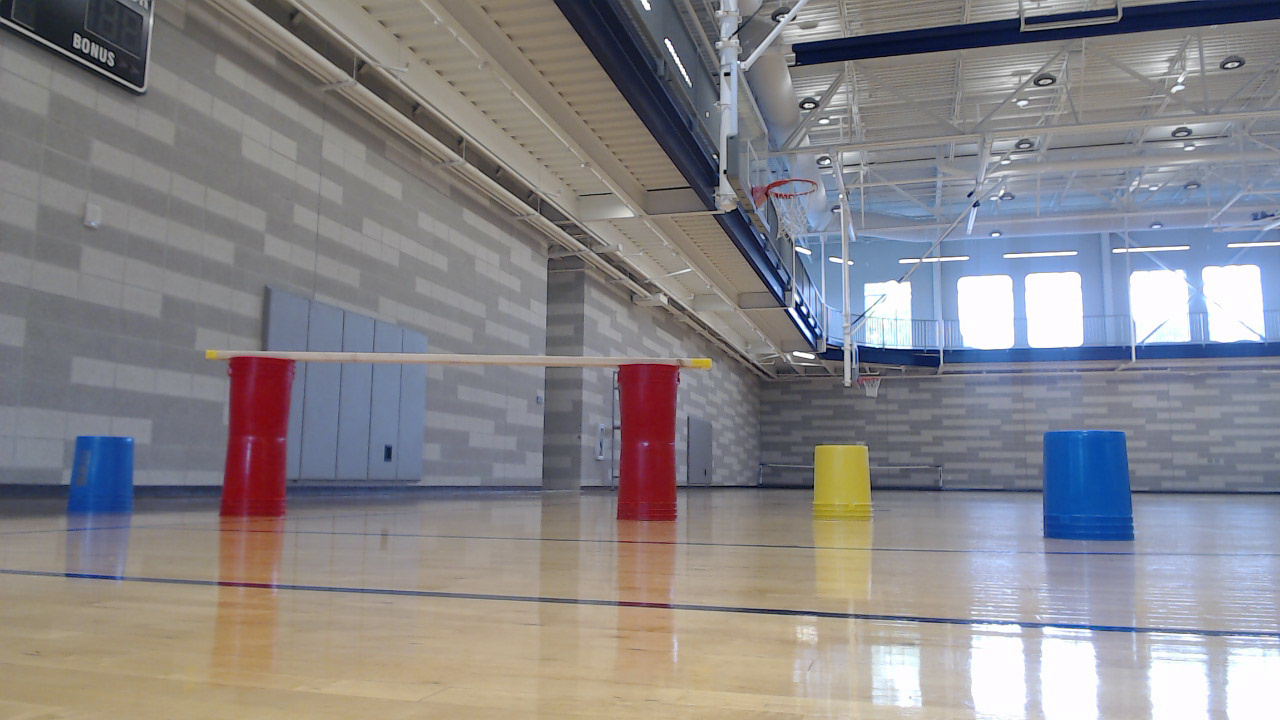blue_bucket: (1045, 432, 1142, 547), (70, 436, 142, 524)
red_bucket_arch: (219, 351, 687, 531)
yellow_bucket: (811, 446, 885, 533)
